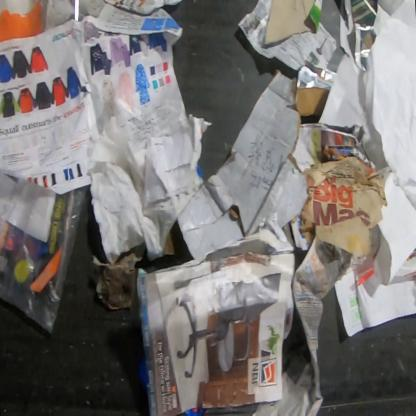cardboard: (176, 67, 317, 260), (264, 0, 324, 46), (295, 87, 330, 117), (163, 230, 177, 255)
rigid_plastic: (43, 0, 105, 32)
soft_plastic: (0, 168, 91, 338)
